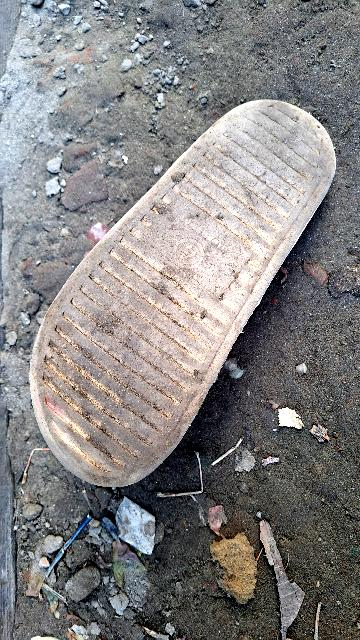sandal: (0, 57, 360, 518)
